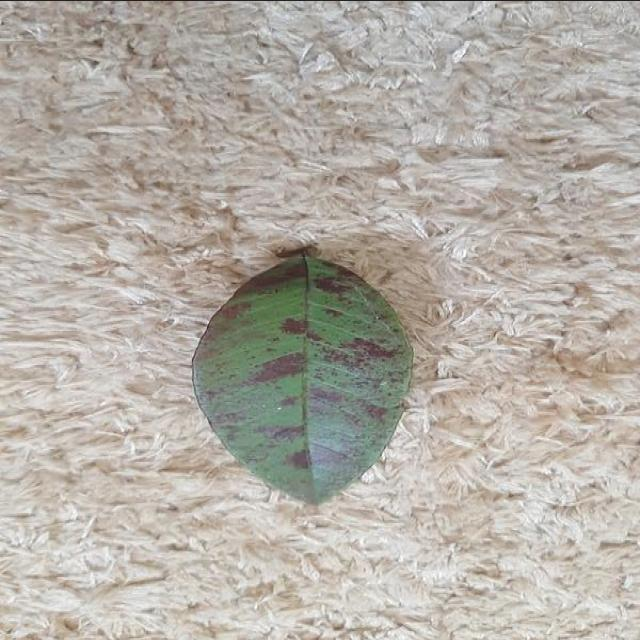leaf: (190, 252, 414, 505)
